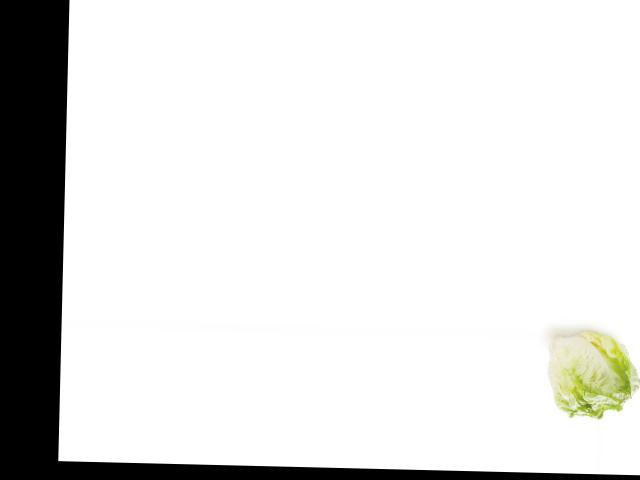lettuce: (540, 331, 640, 423)
